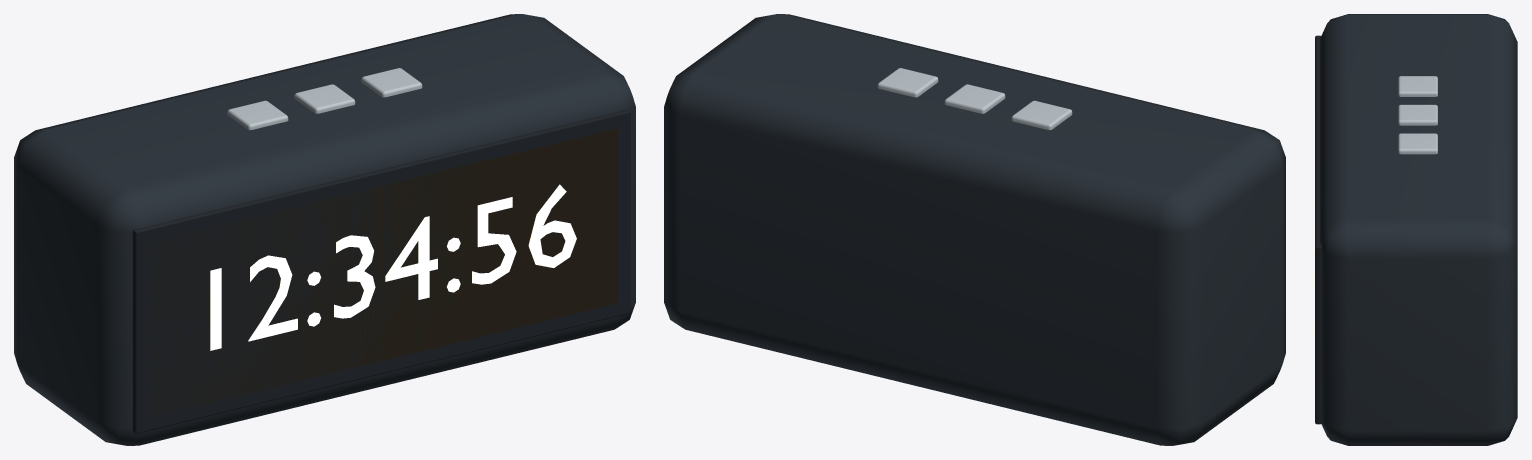
Rendered from digital-alarm-clock.glb.
3 renders of one model, left to right at view 1: azimuth 30°, elevation 25°; view 2: azimuth 150°, elevation 25°; view 3: azimuth 270°, elevation 25°, orthographic. The views are drawn at different scales.
Visible parts, largest first — view 1: digital-alarm-clock authored assembly, Preview time; view 2: digital-alarm-clock authored assembly; view 3: digital-alarm-clock authored assembly, Preview time.
Boxes of the visible parts, x1,y1,x2,y2 form: digital-alarm-clock authored assembly: (14, 14, 635, 445); Preview time: (210, 184, 576, 350); digital-alarm-clock authored assembly: (664, 14, 1285, 445); digital-alarm-clock authored assembly: (1315, 14, 1517, 445); Preview time: (1314, 116, 1314, 334).
Size of the model in its own units: 0.16 by 0.075 by 0.06.
